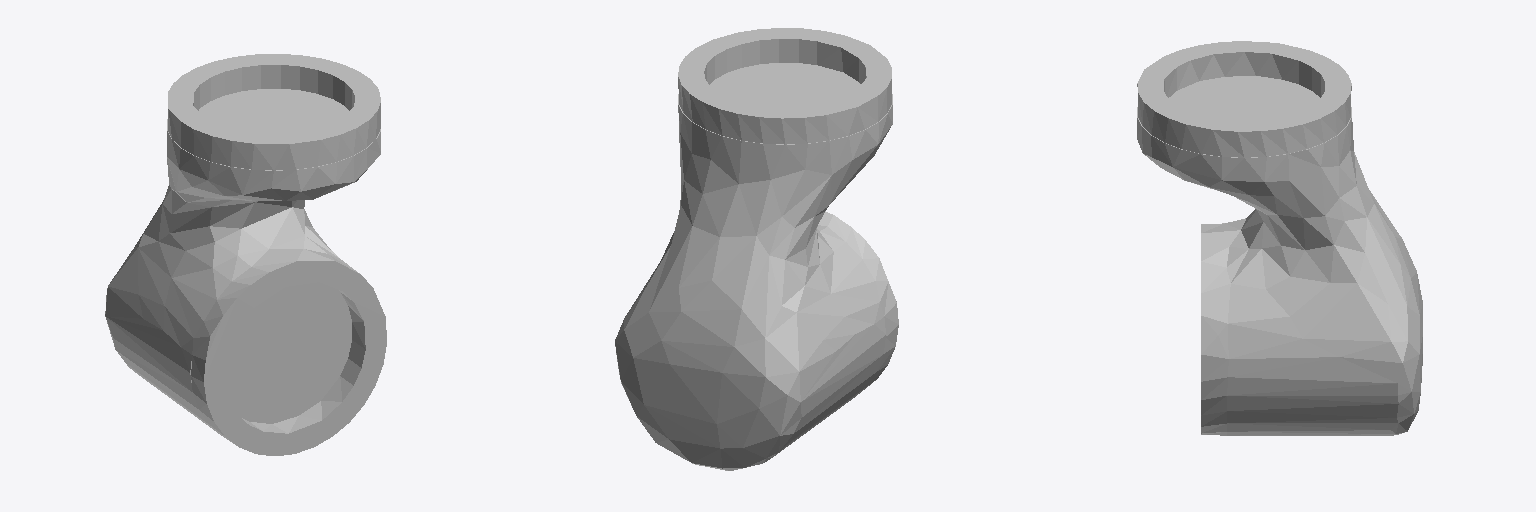
File: dual_rm_75b_description_r_link1_visuals_r_link1_mesh.obj
3 renders of one model, left to right at view 1: azimuth 30°, elevation 25°; view 2: azimuth 150°, elevation 25°; view 3: azimuth 270°, elevation 25°, orthographic.
Size of the model in its own units: 0.0822 by 0.1425 by 0.1091.